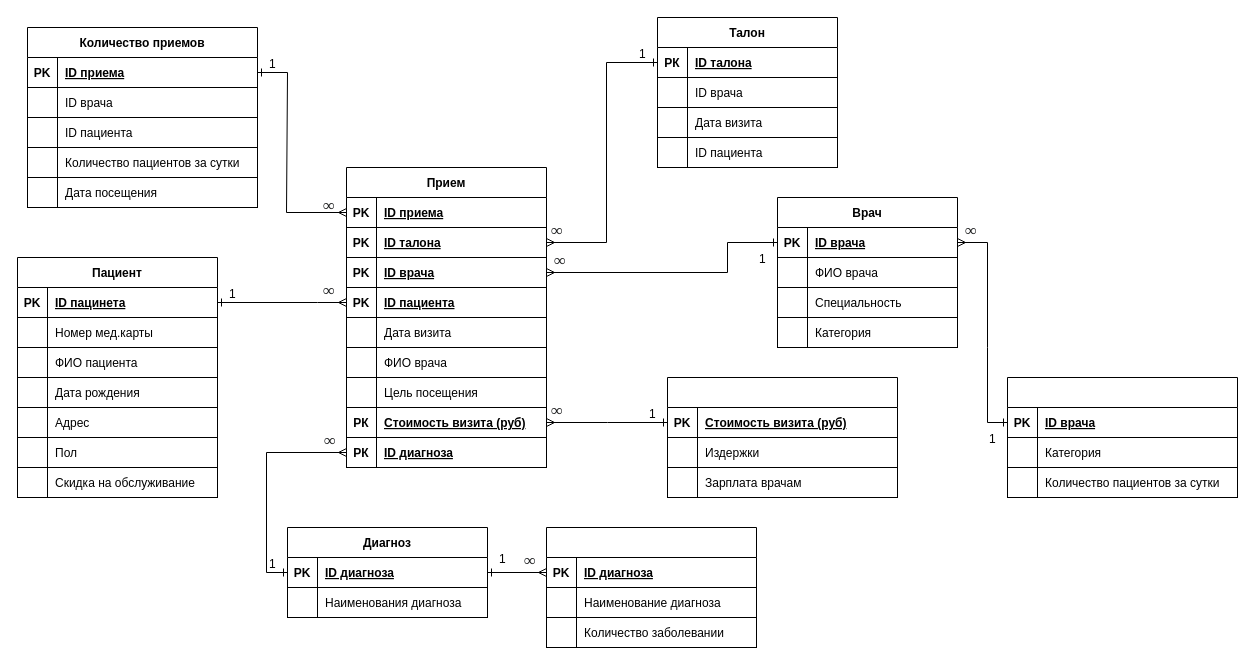
This 1255x665 diagram has some shape labels left out. The box of each missing label's shape, as (x1, y1, x2, y2) in pixels:
Выручка: (666, 376, 898, 498)
Заболевания пациентов: (546, 526, 756, 648)
Загрузка врачей: (1006, 376, 1238, 498)
